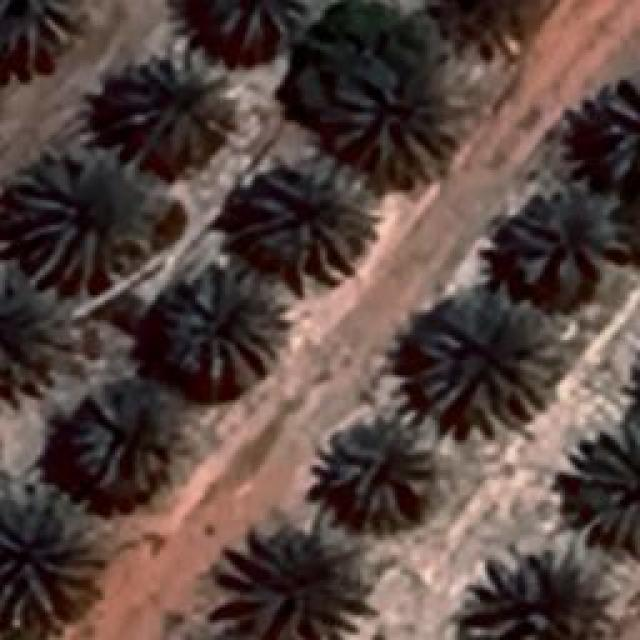PalmTree: (398, 290, 560, 435), (10, 150, 165, 290), (232, 160, 372, 292), (205, 528, 370, 638), (320, 64, 460, 188), (110, 44, 240, 168), (165, 267, 290, 385), (328, 414, 440, 528), (70, 380, 185, 490), (504, 180, 628, 282), (458, 547, 598, 635), (0, 502, 102, 622), (568, 420, 638, 552), (430, 0, 557, 59), (0, 291, 62, 403), (0, 0, 85, 62), (600, 77, 638, 185), (210, 0, 310, 38)
